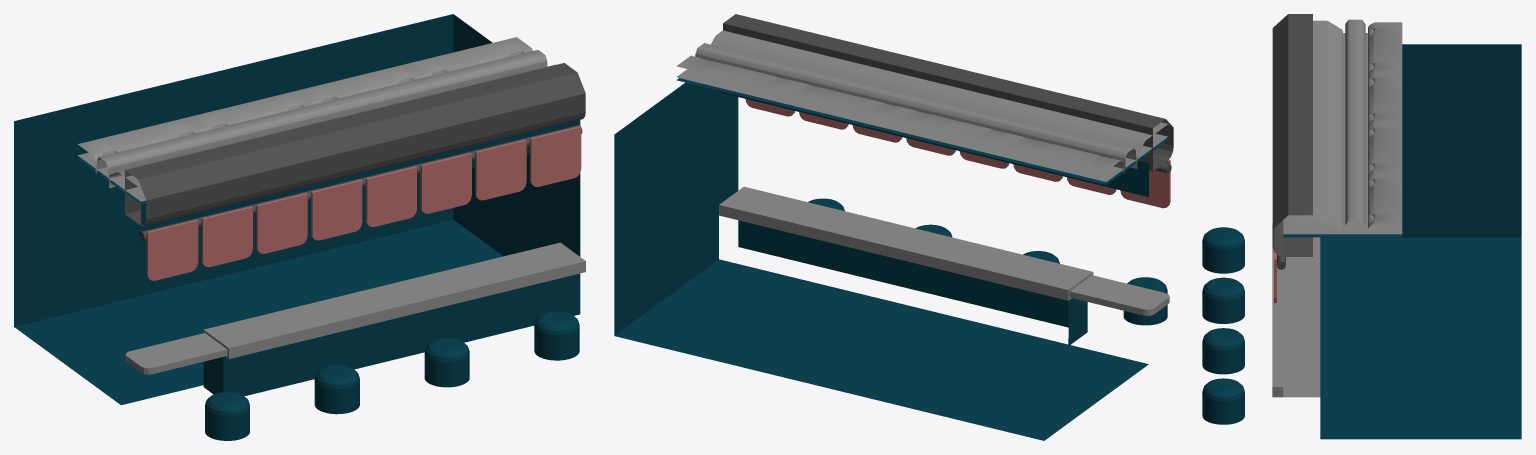
File: MB_Restaurant_Straight_UpperLevel_Large.fbx
3 renders of one model, left to right at view 1: azimuth 30°, elevation 25°; view 2: azimuth 150°, elevation 25°; view 3: azimuth 270°, elevation 25°, orthographic. The views are drawn at different scales.
Visible parts, largest first — view 1: Cube.6102; view 2: Cube.6102; view 3: Cube.6102.
Part boxes in pixels (x1,y1,x2,y2): Cube.6102: (14,14,585,440); Cube.6102: (614,14,1173,440); Cube.6102: (1202,14,1521,439).
Size of the model in its own units: 8 by 4.18 by 5.36.
